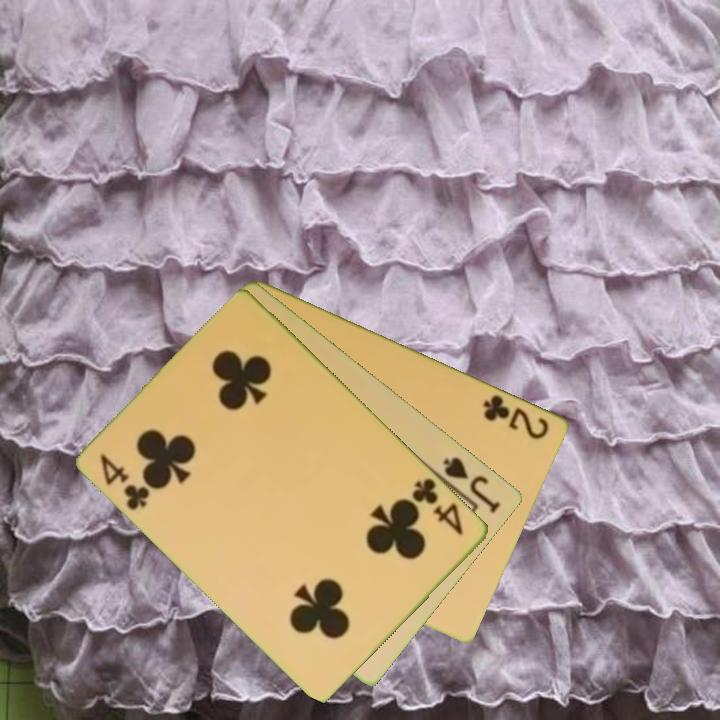2c: (480, 391, 553, 442)
4c: (409, 474, 468, 538), (97, 450, 153, 514)
Js: (440, 452, 504, 517)
